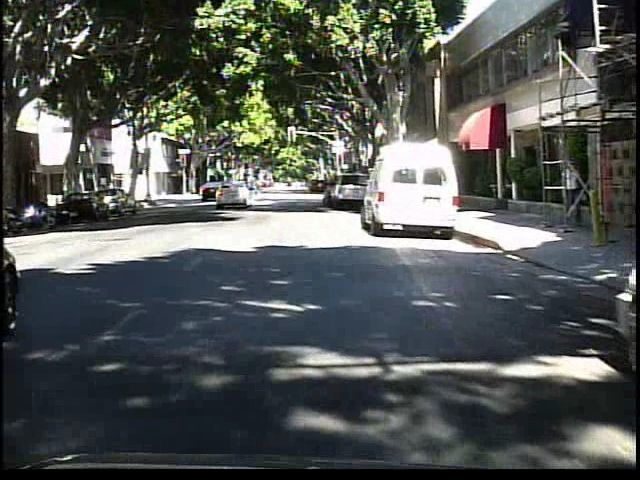person: (557, 158, 582, 231), (248, 175, 263, 205)
